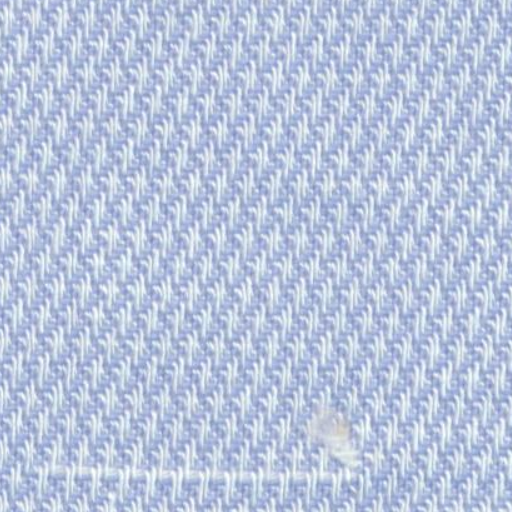DaiSha: (19, 431, 365, 503)
